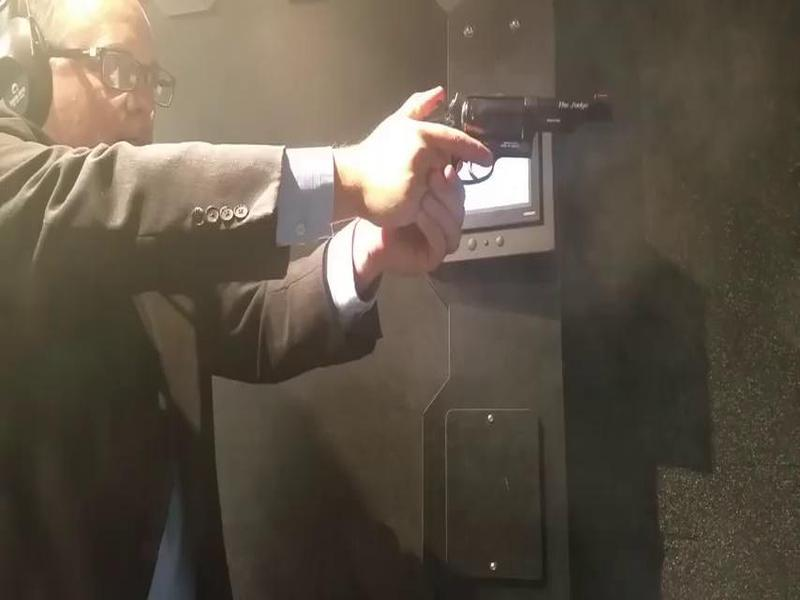Revolver: (394, 71, 643, 241)
